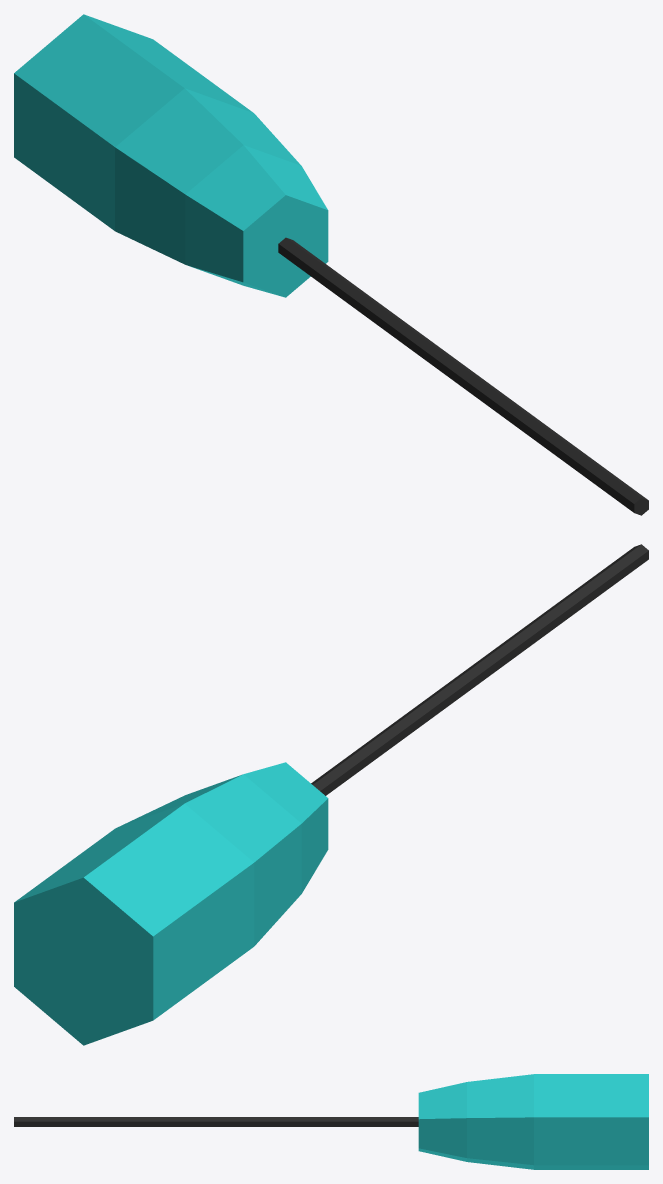
Rendered from aguja.obj.
The picture shows the model from 3 angles, top to bottom: view 1: azimuth 30°, elevation 25°; view 2: azimuth 150°, elevation 25°; view 3: azimuth 270°, elevation 25°; orthographic projection. The views are drawn at different scales.
Visible parts, largest first — view 1: pieza_0, pieza_1; view 2: pieza_0, pieza_1; view 3: pieza_0, pieza_1.
Part boxes in pixels (bbox=[...]): pieza_0: bbox=[14, 14, 328, 297]; pieza_1: bbox=[278, 237, 648, 515]; pieza_0: bbox=[14, 762, 328, 1045]; pieza_1: bbox=[311, 544, 648, 795]; pieza_0: bbox=[418, 1074, 648, 1169]; pieza_1: bbox=[14, 1117, 418, 1126].
Bounding box in the file's own units: 0.0666 × 0.0769 × 0.4622.
